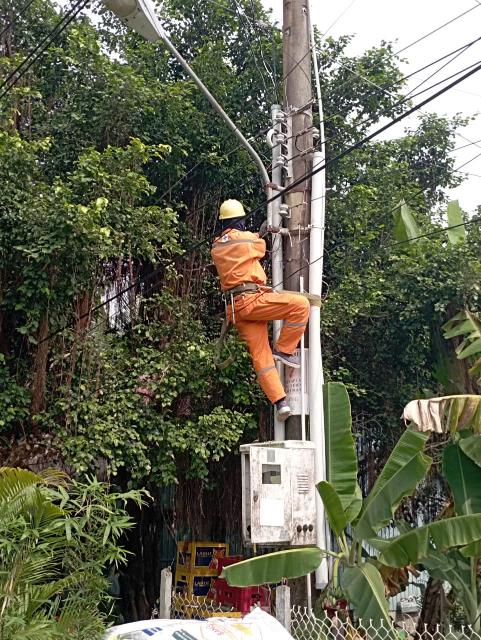gloves: (252, 220, 281, 240)
harness: (221, 273, 269, 301)
helmet: (216, 196, 246, 225)
shoes: (269, 344, 306, 372), (273, 396, 298, 420)
